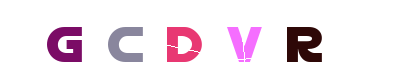C: (89, 0, 169, 80)
D: (159, 0, 239, 80)
G: (84, 0, 164, 80)
R: (263, 0, 343, 80)
V: (198, 0, 278, 80)
